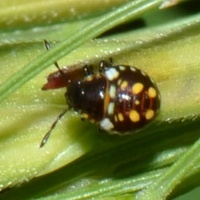insect: (42, 58, 159, 131)
